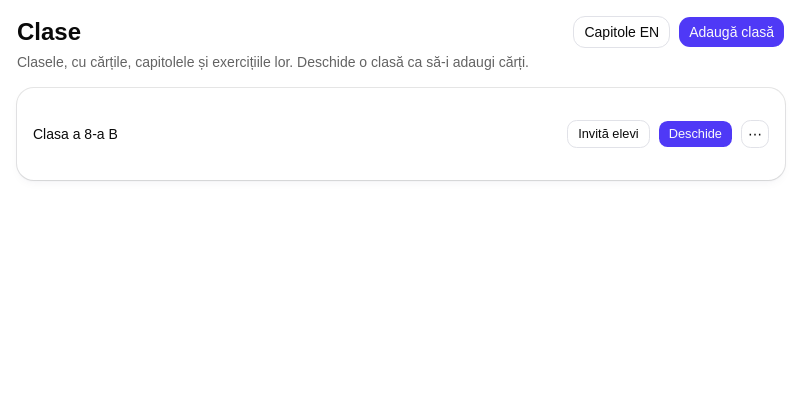
AdminContentPage — the chapters of a book › offers no "Mută mai jos" on the last chapter
The width and height of the screenshot is (803, 403).
What coordinates should you click on to do the following:
click the button "Deschide"
I would click on:
 (695, 134)
Its box is [658,120,733,148].
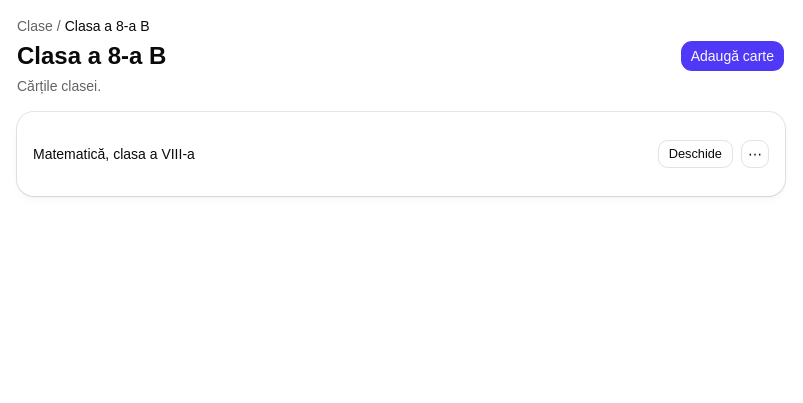
What coordinates should you click on to do the following:
click the button "Deschide"
I would click on:
 (695, 154)
Its box is [658,140,733,168].
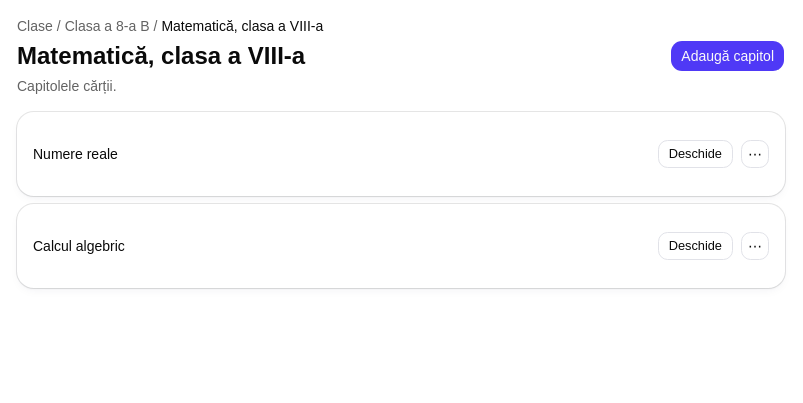
Expected: the text "Numere reale" is shown, [33,144,118,164]
What coordinates should you click on to do the following:
click the button named "Mai multe acțiuni pentru Calcul algebric"
I would click on:
 (755, 246)
Its box is [741,232,769,260].
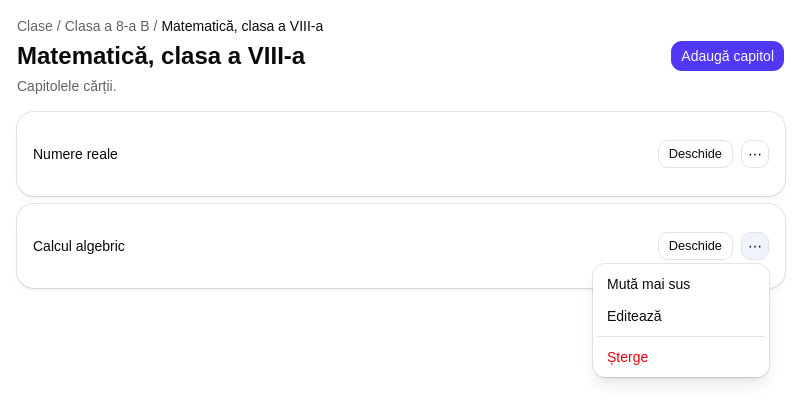
Expected: the menu item "Mută mai sus" is shown, [607,276,690,292]
